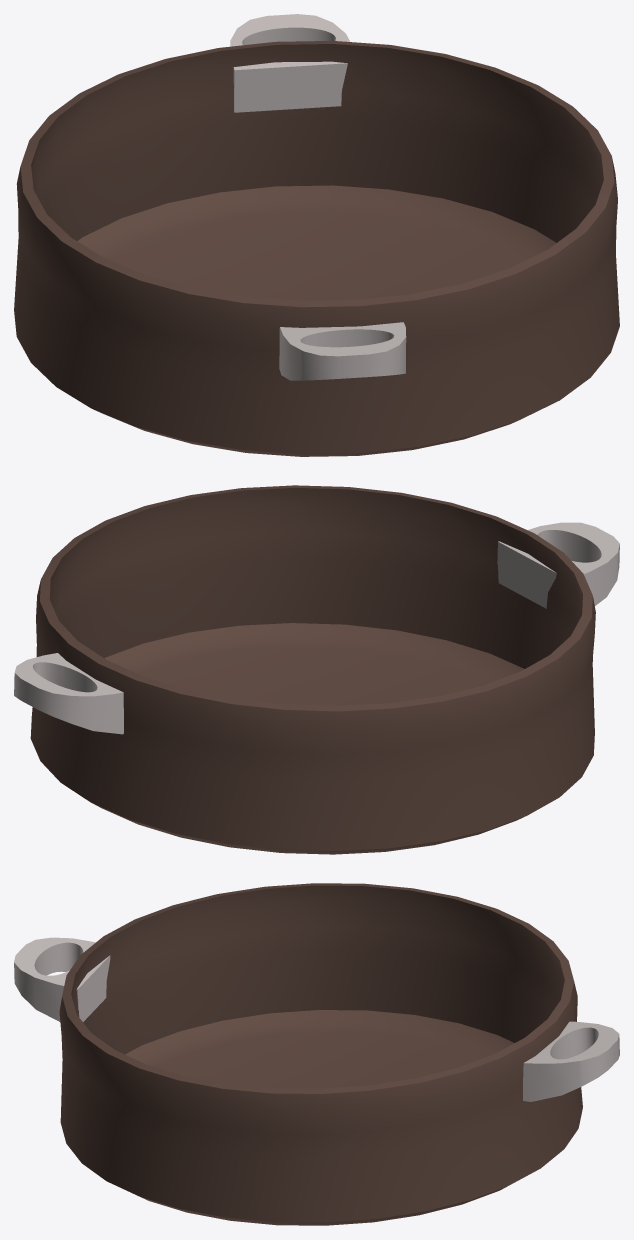
Rendered from panci.fbx.
The picture shows the model from 3 angles, top to bottom: view 1: azimuth 30°, elevation 25°; view 2: azimuth 150°, elevation 25°; view 3: azimuth 270°, elevation 25°; orthographic projection. The views are drawn at different scales.
Visible parts, largest first — view 1: left handle.001; view 2: left handle.001; view 3: left handle.001.
Boxes of the visible parts, x1=… form: left handle.001: x1=14, y1=14, x2=619, y2=456; left handle.001: x1=14, y1=485, x2=619, y2=854; left handle.001: x1=14, y1=883, x2=619, y2=1225.
Size of the model in its own units: 491 by 159 by 569.
